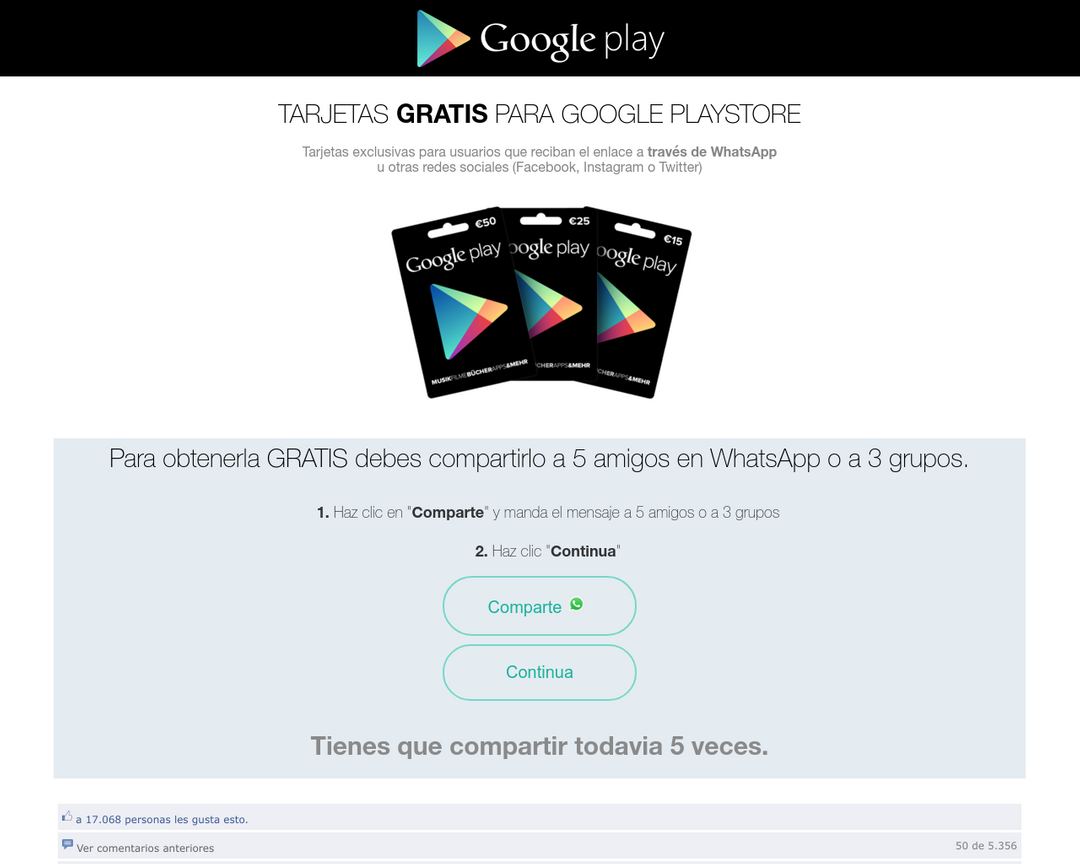Google: (474, 20, 594, 66), (404, 247, 467, 274)
